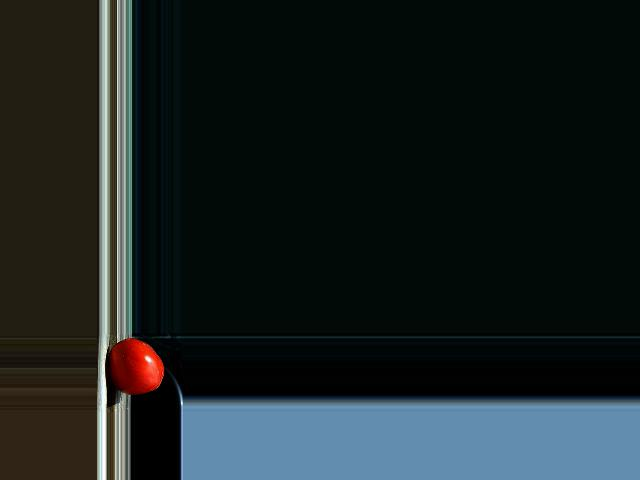tomato: (108, 338, 164, 395)
